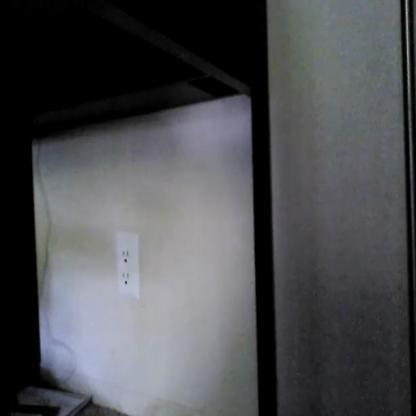OUTLET: (116, 232, 140, 296)
